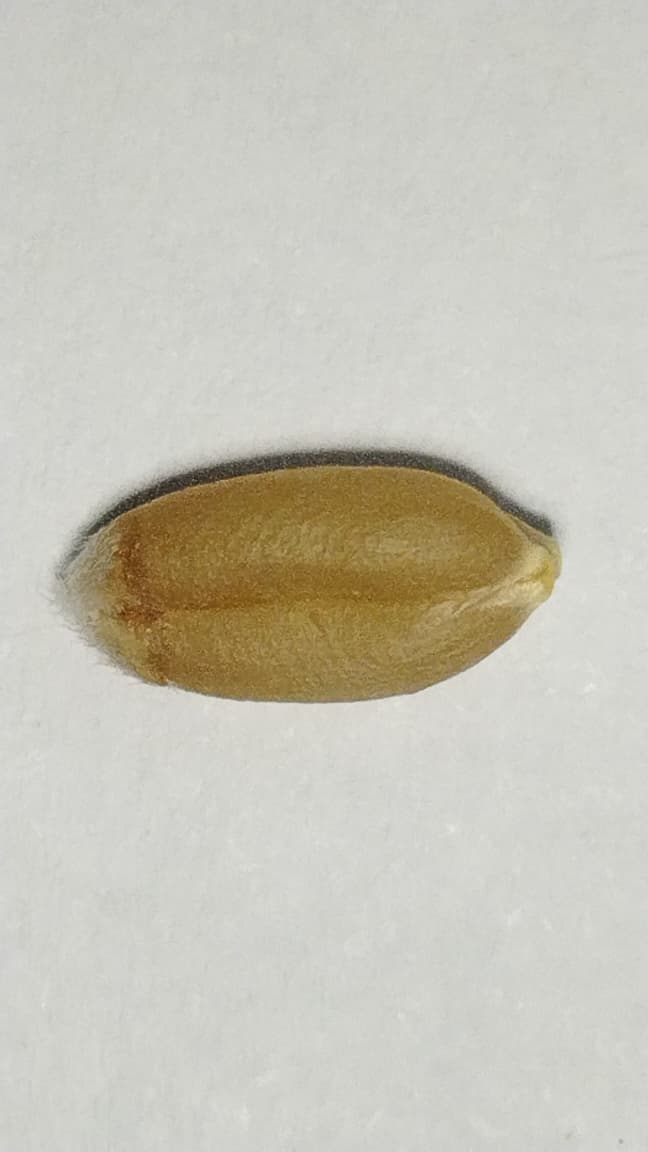healthy: (110, 465, 558, 699)
